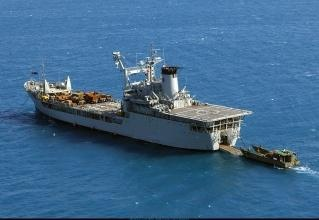otherboat: (244, 143, 304, 168)
warship: (20, 46, 251, 149)
